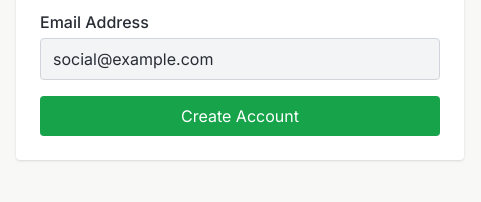
Test case: SocialSignUp › shows error message on submission failure
The image size is (481, 202).
Click the button "Create Account" at (240, 116), box [40,96,440,136]
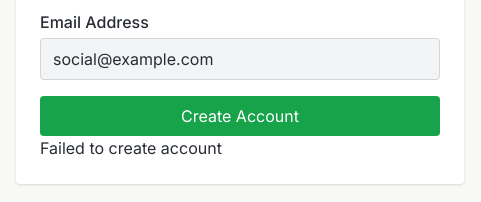
Now the text "Failed to create account" is shown, box [40,138,222,158]
